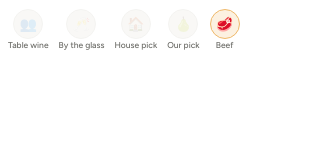
Test case: WineCardIcons: protein slot (icon 3) › renders one lit, tappable icon per resolved protein match, with a visible label and aria-label
Expected: the text "Beef" is shown, [216,41,233,51]
Click the button with test id "wine-icon-protein-beef-0": (225, 24) [210,9,240,39]
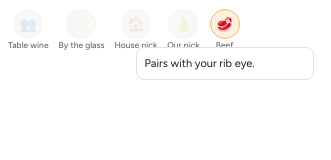
Expected: the text with test id "wine-icon-explainer-protein-beef-0" reads "Pairs with your rib eye.", [145,57,255,70]
